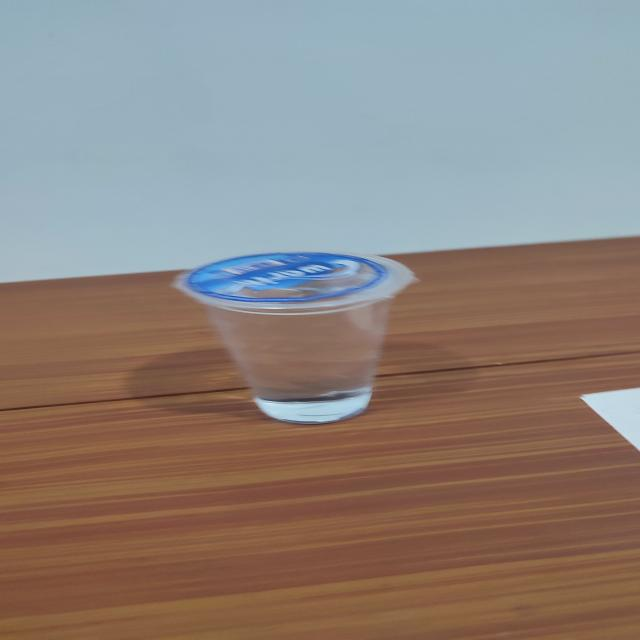air gelas: (166, 229, 433, 431)
